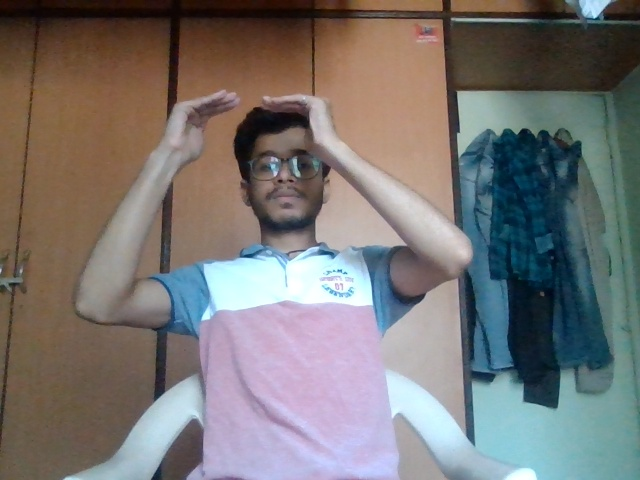afternoon: (143, 78, 391, 201)
